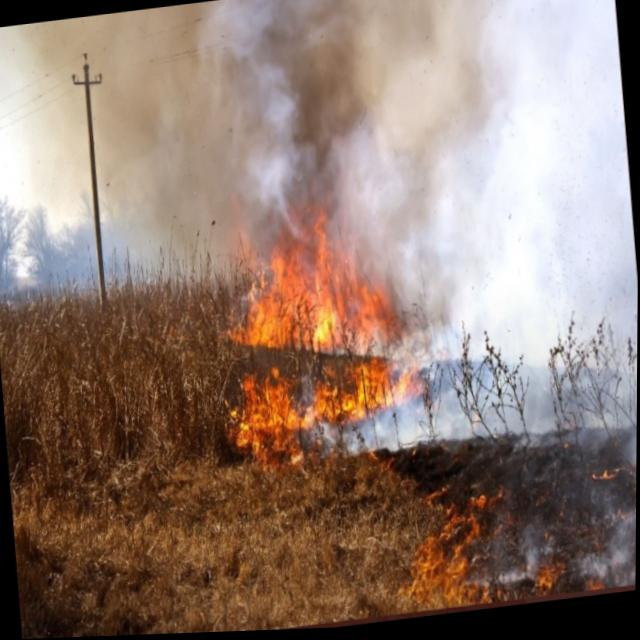Fire: (201, 185, 446, 488), (378, 458, 637, 623)
